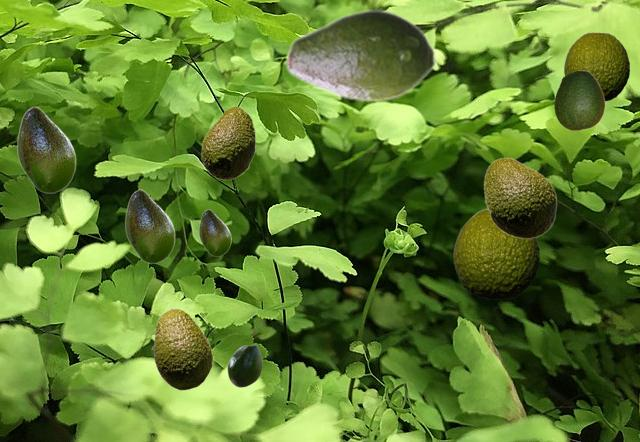avocado: (285, 8, 436, 102), (453, 208, 538, 298), (483, 157, 556, 238), (17, 106, 75, 192), (151, 308, 212, 389), (564, 32, 628, 100), (201, 106, 254, 179), (125, 189, 174, 262), (554, 70, 604, 129), (227, 344, 261, 386), (199, 209, 230, 255)
